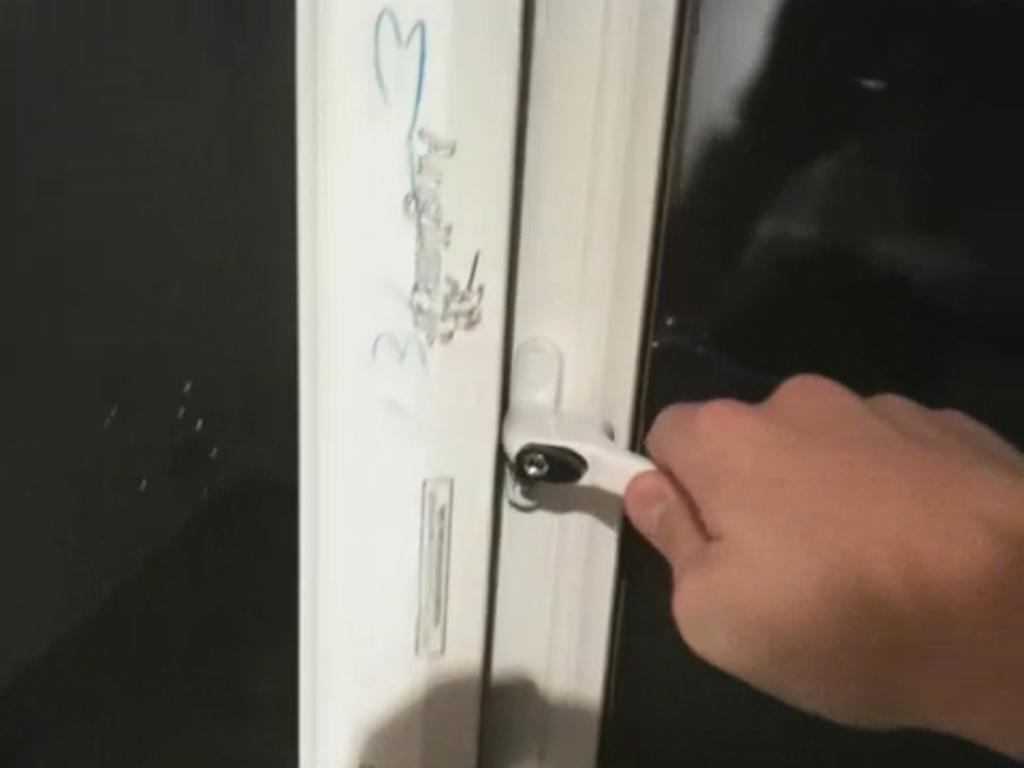door: (530, 16, 1016, 768), (14, 36, 498, 768)
handle: (510, 402, 696, 516)
